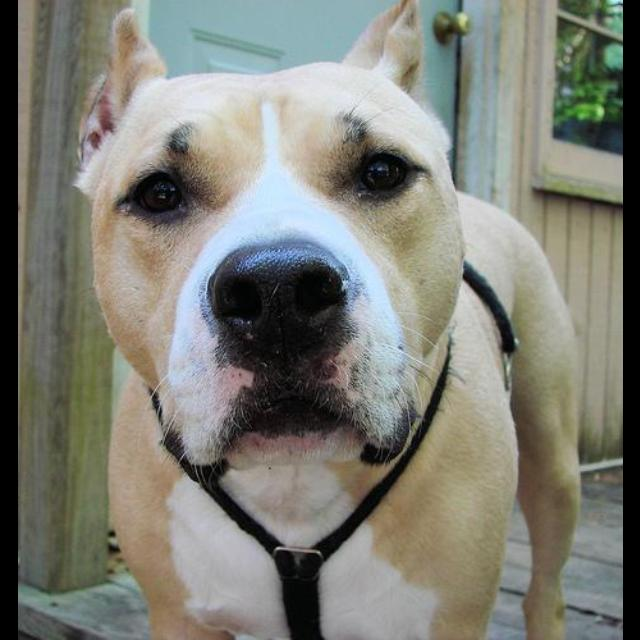amstaff: (72, 1, 585, 639)
